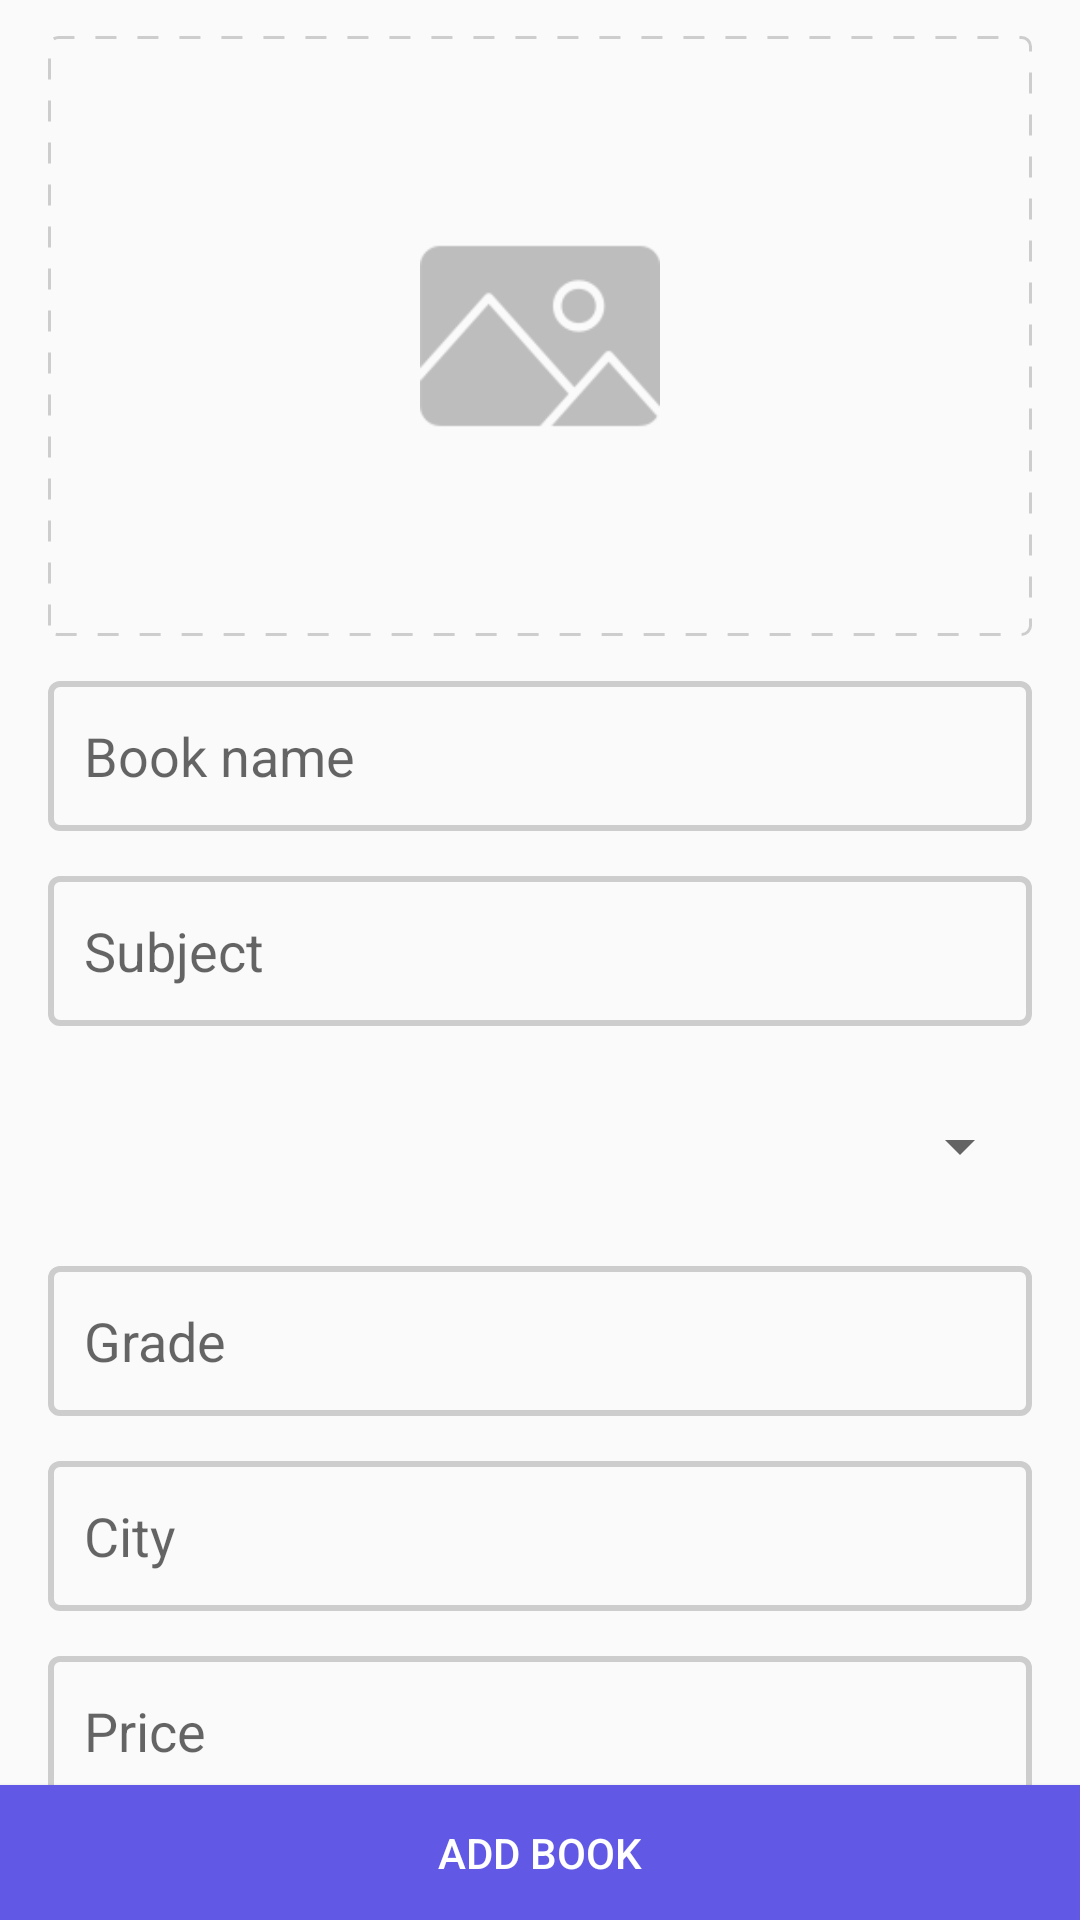

Screen size 1080w x 1920h. Icon name, then its center in pixels as (x,y):
gallery: (540,336)
